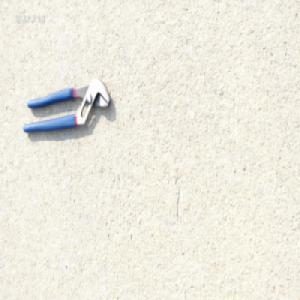Pliers: (21, 76, 111, 135)
